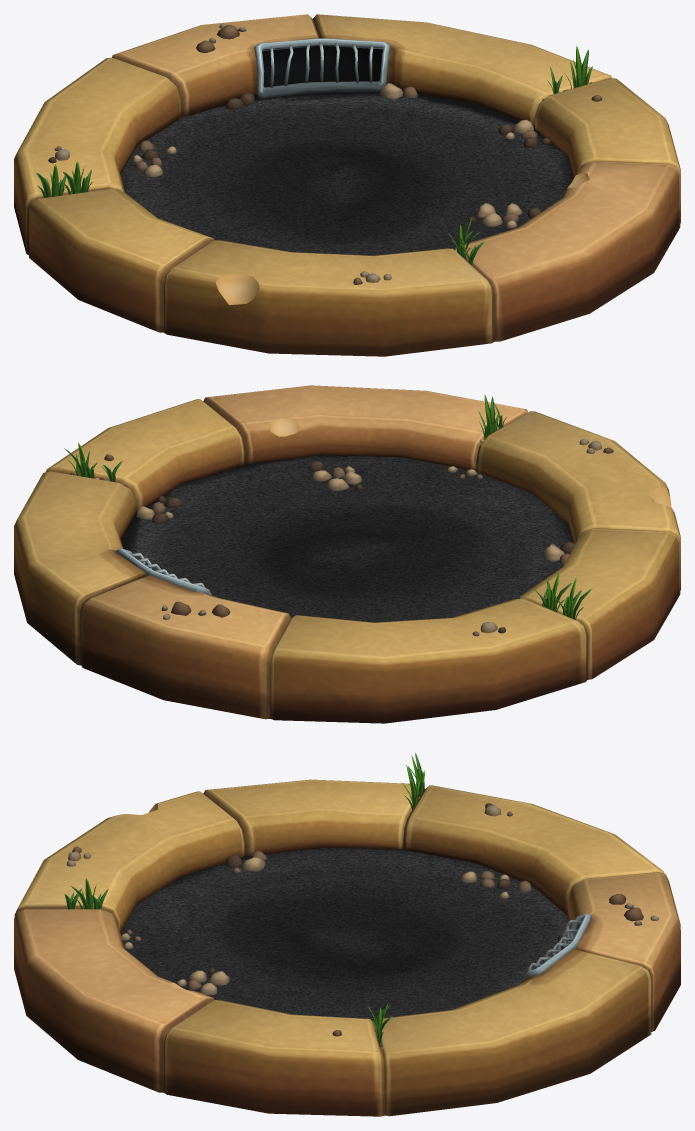
The model's file is Urban_Scene_Ground.fbx.
The picture shows the model from 3 angles, top to bottom: view 1: azimuth 30°, elevation 25°; view 2: azimuth 150°, elevation 25°; view 3: azimuth 270°, elevation 25°; orthographic projection.
Parts seen in each view (by area): view 1: Urban_Scene_Ground; view 2: Urban_Scene_Ground; view 3: Urban_Scene_Ground.
Boxes of the visible parts, <box> form: Urban_Scene_Ground: <box>14,14,680,356</box>; Urban_Scene_Ground: <box>14,385,680,723</box>; Urban_Scene_Ground: <box>14,753,680,1116</box>.
Bounding box in the file's own units: 3.02 × 17.38 × 17.37.
